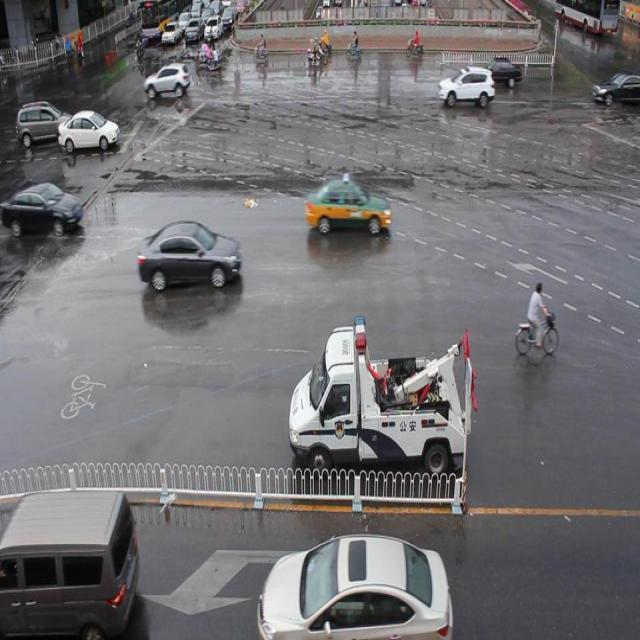car: (136, 218, 242, 290), (306, 176, 392, 238), (438, 66, 493, 110), (472, 55, 520, 91)
